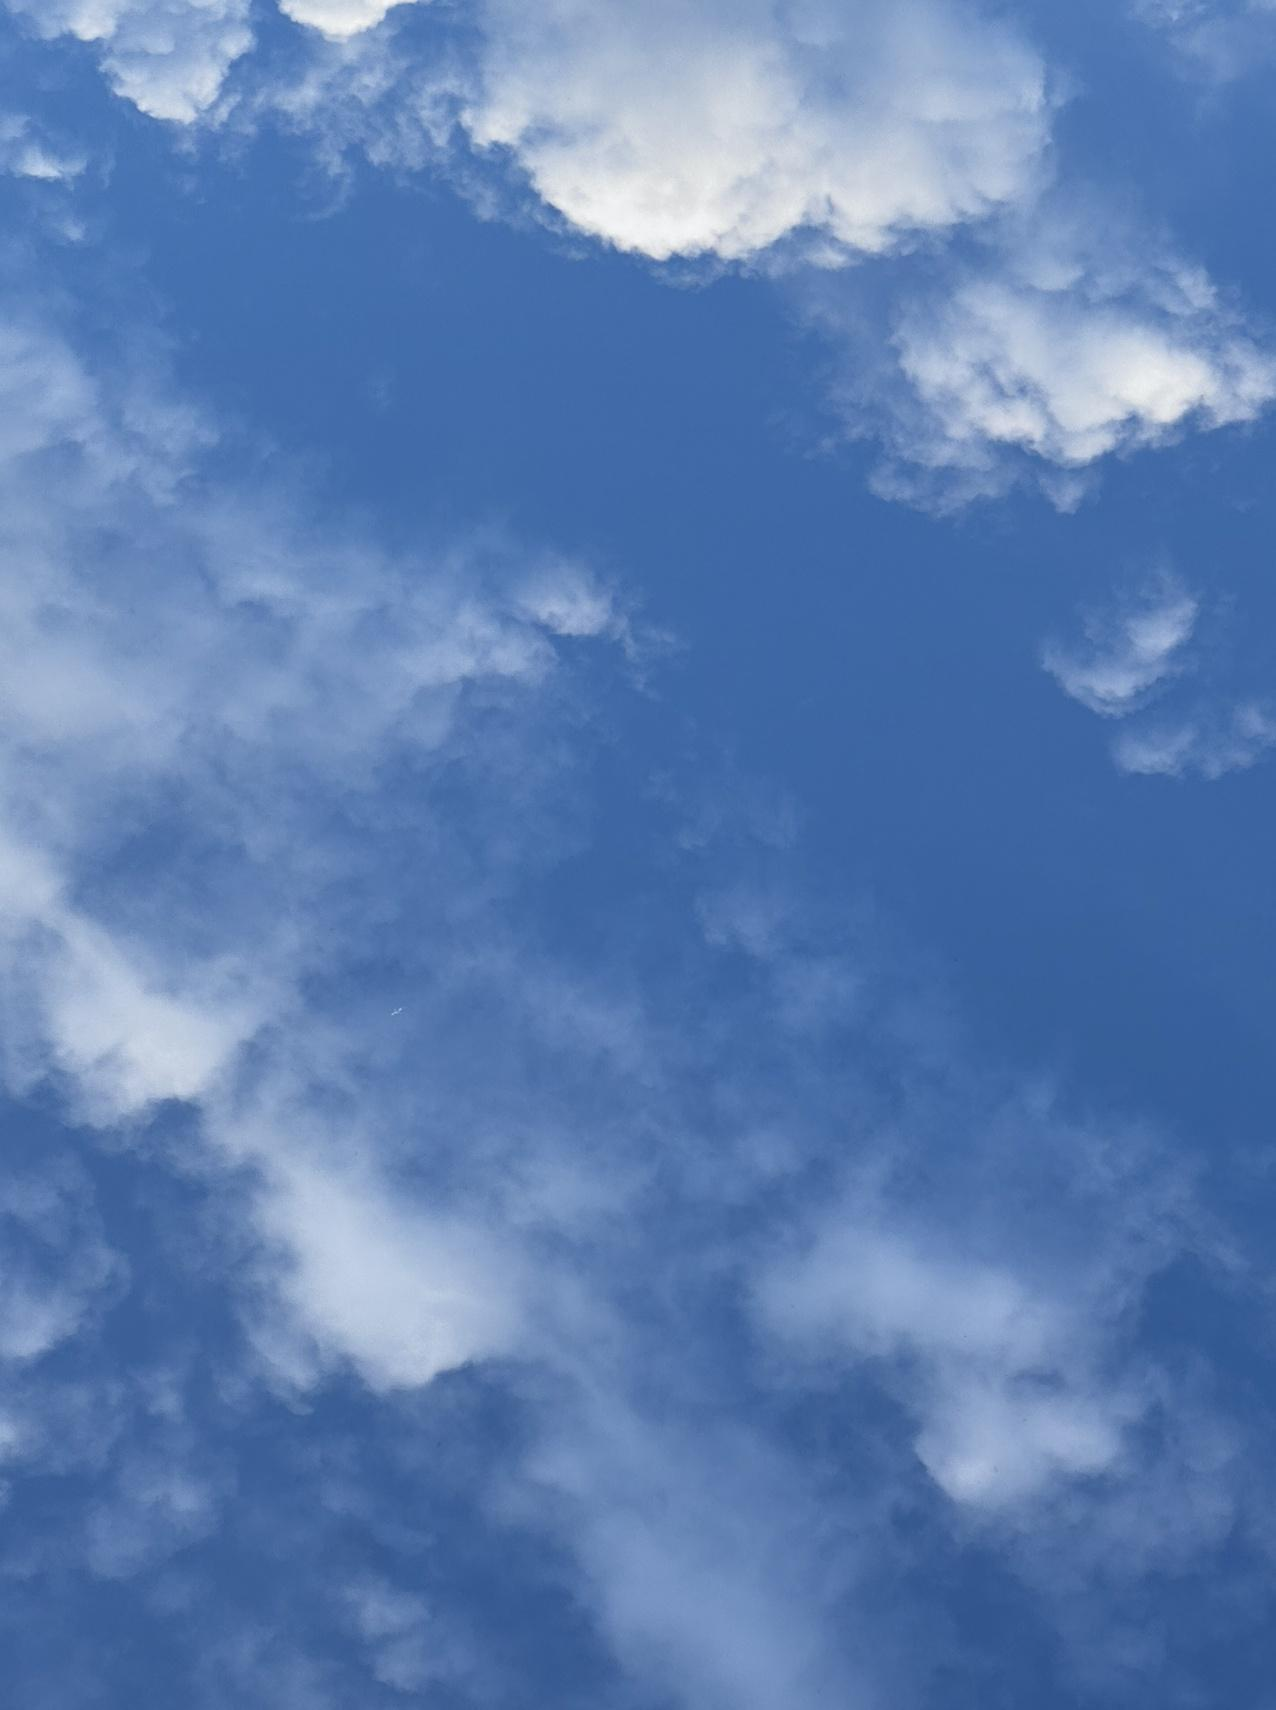Plane: (377, 985, 421, 1037)
